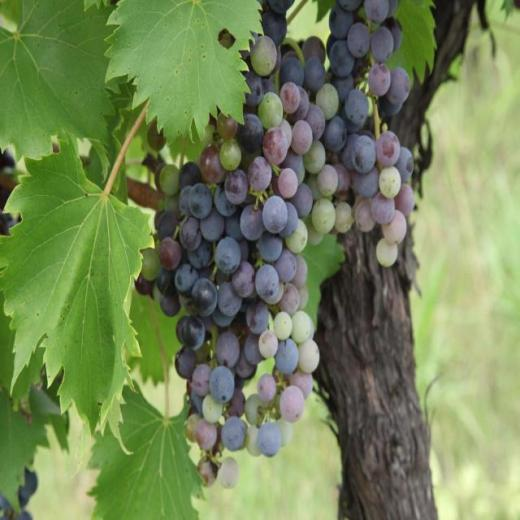Orange: (134, 0, 414, 488), (0, 212, 18, 236), (19, 468, 35, 495), (0, 147, 15, 171), (26, 470, 37, 496), (13, 510, 32, 520), (19, 489, 29, 504), (22, 512, 32, 520)
